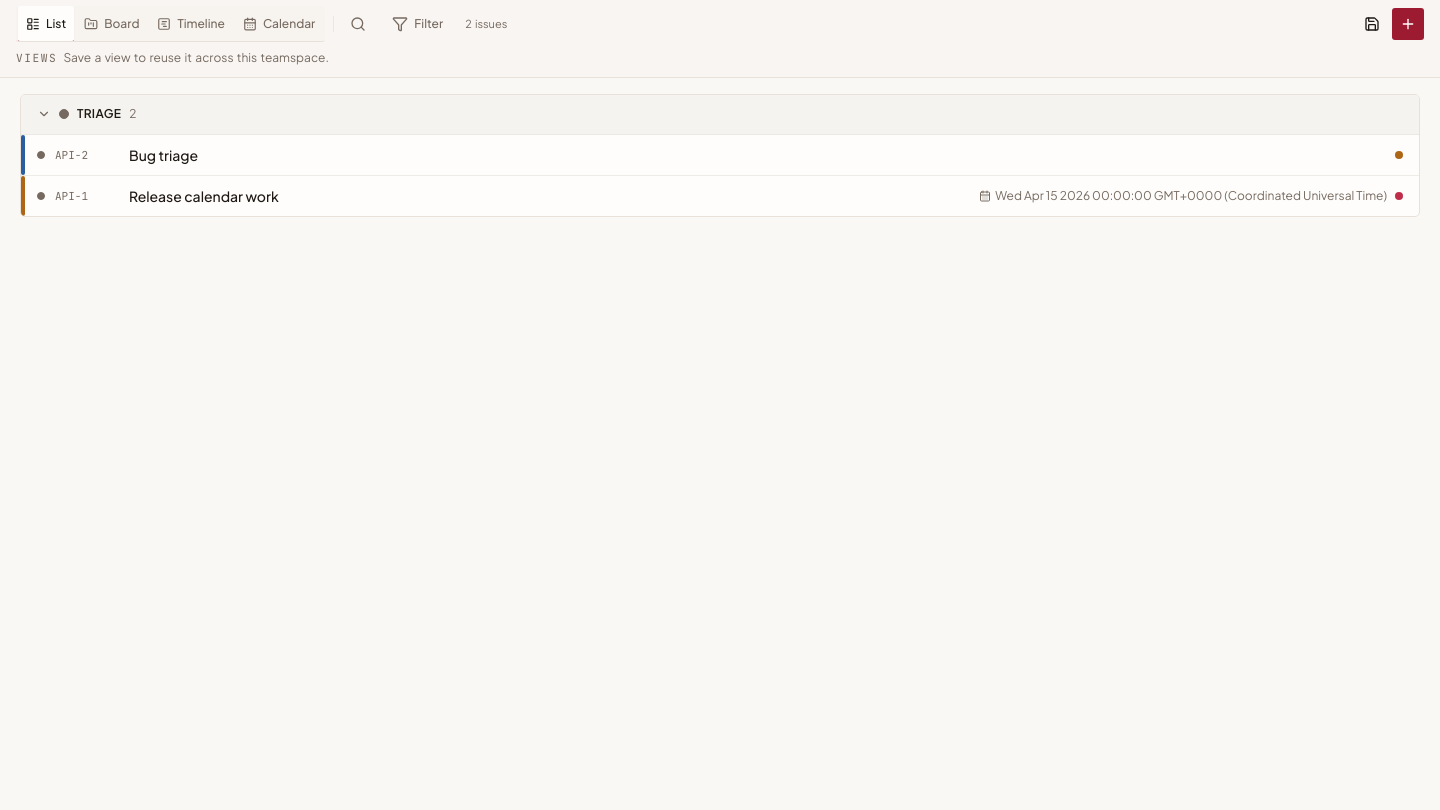
ProjectViewsShell › shows a localized permission message when saving a view is denied
This screenshot has width=1440, height=810.
Click the button named "Save view": (1372, 24) [1356,8,1388,40]
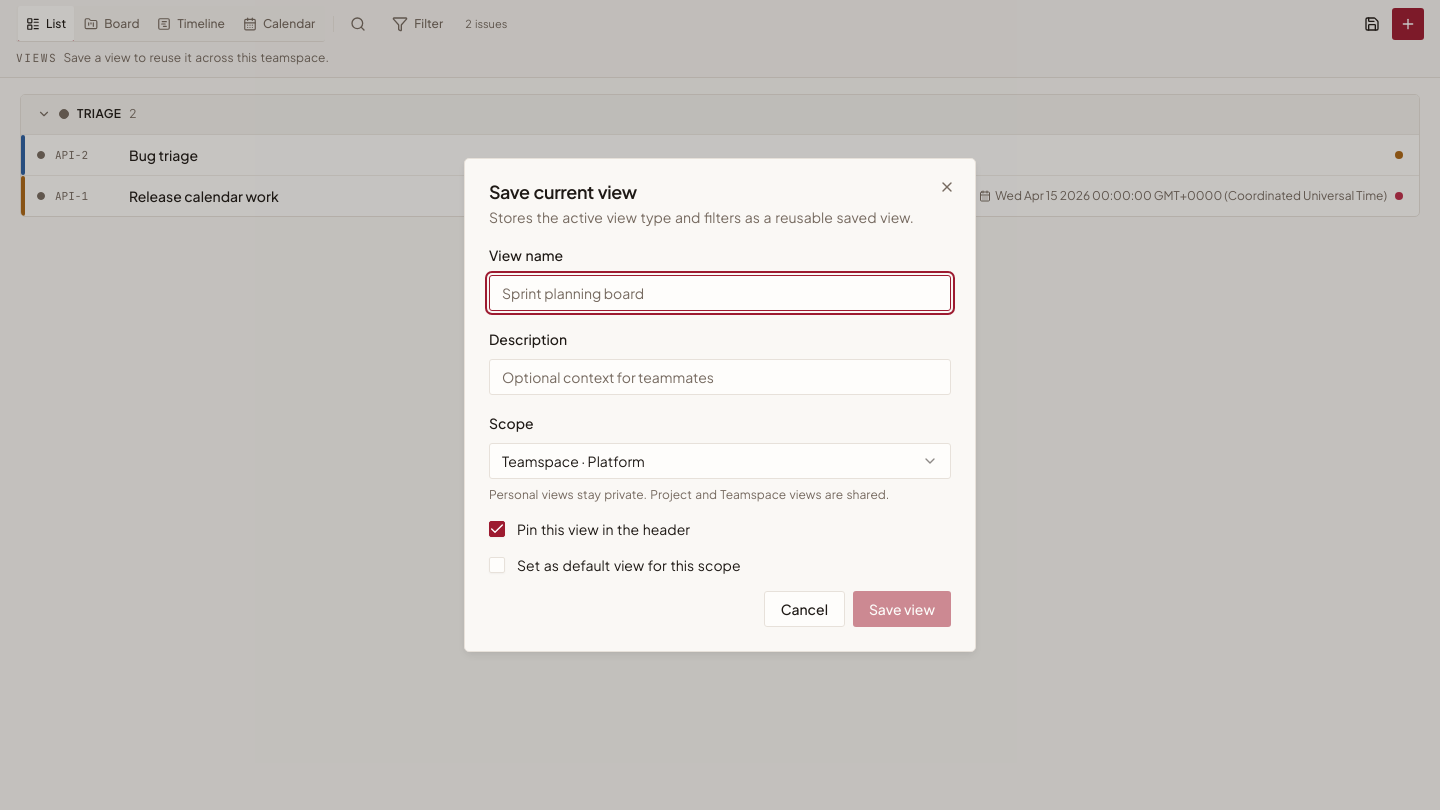
In the field labelled "View name": (720, 293) [489,275,951,311], type "Restricted view"
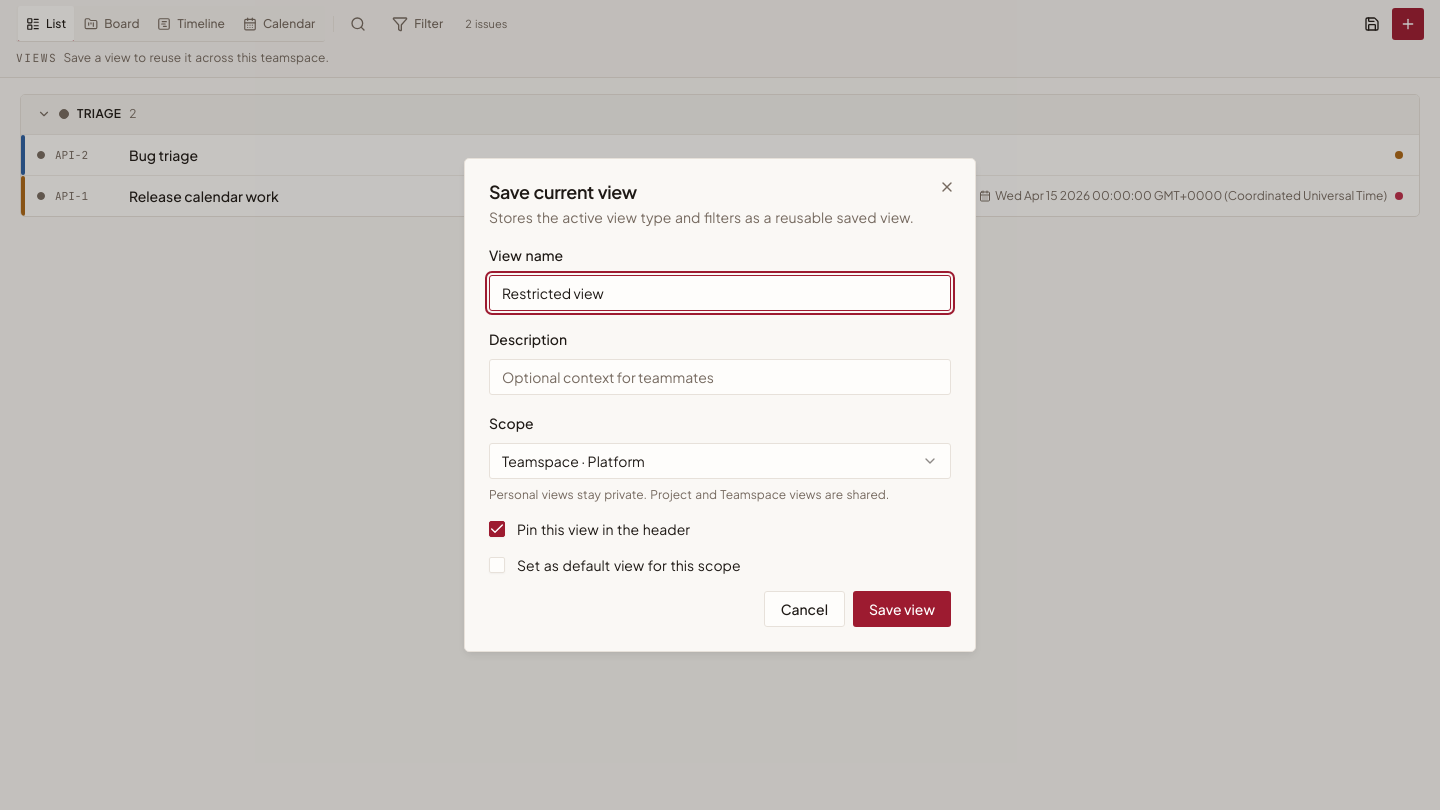
Click the button "Save view": (902, 609) [853,591,951,627]
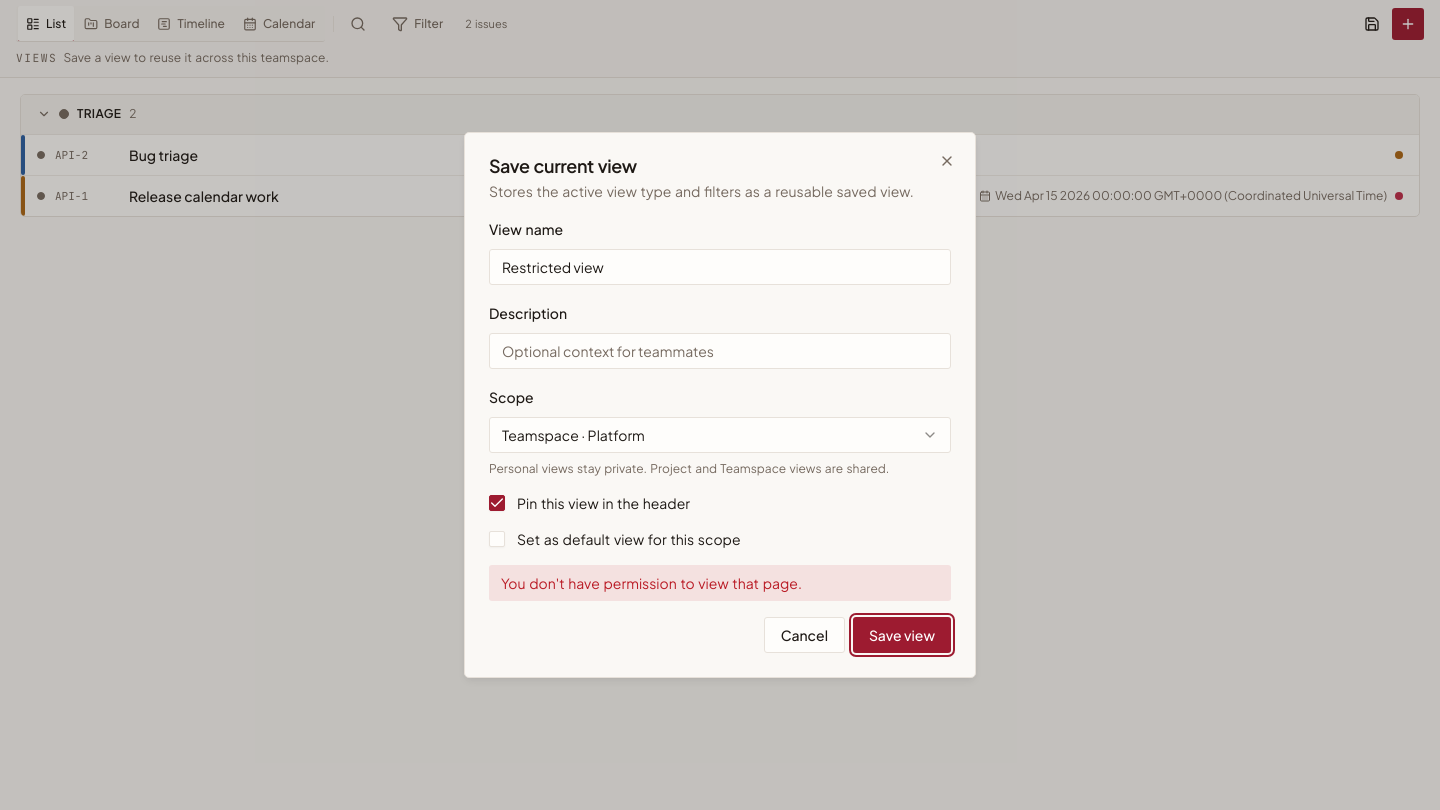
expect the text "You don't have permission to view that page." is shown: met, box [489,565,951,601]
